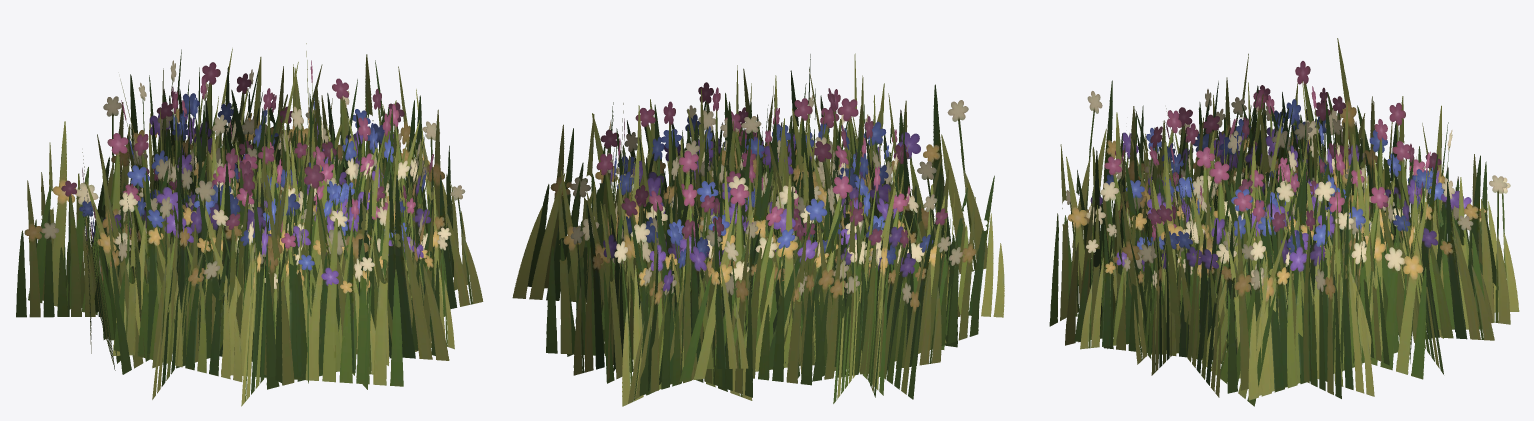
Rendered from flowers_lod1.glb.
3 views of the same model, side by side, from view 1: azimuth 30°, elevation 25°; view 2: azimuth 150°, elevation 25°; view 3: azimuth 270°, elevation 25° (orthographic). The views are drawn at different scales.
Visible parts, largest first — view 1: flowers_lod1; view 2: flowers_lod1; view 3: flowers_lod1.
Part boxes in pixels (<box>): flowers_lod1: <box>16,43,483,406</box>; flowers_lod1: <box>512,53,1004,406</box>; flowers_lod1: <box>1049,38,1519,406</box>.
Bounding box in the file's own units: 1.47 × 0.8104 × 1.5.
1 material, 1 textured.
